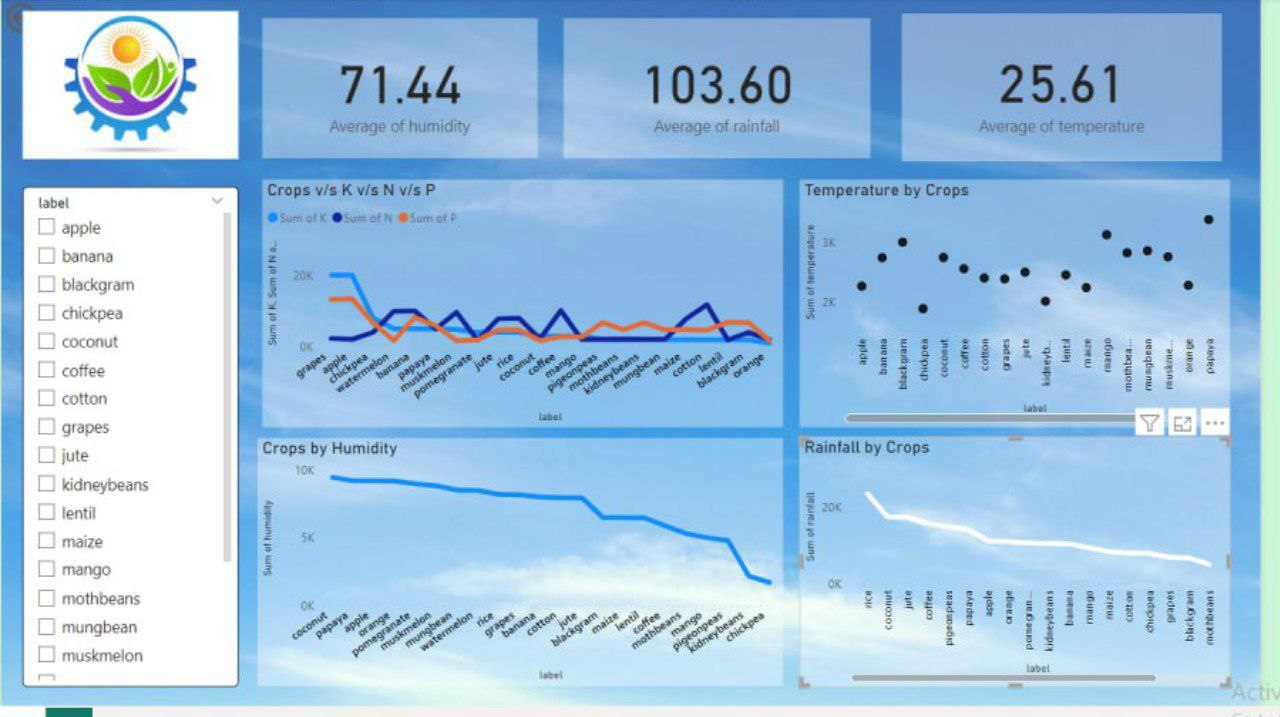

What the dashboard file says about the page in this screenshot:
{"tool":"powerbi","page":{"name":"Page 1","canvas":[1280,720],"ordinal":0},"visuals":[{"type":"actionButton","box":[0,0,100,40],"z":2000},{"type":"slicer","title":"Slicer","fields":{"Values":["Crop_recommendation.label"]},"box":[21.7,191.8,219.5,508.9],"z":3000},{"type":"card","fields":{"Values":["Avg(Crop_recommendation.humidity)"]},"box":[265.3,20.5,279.8,142.3],"z":4000},{"type":"card","fields":{"Values":["Avg(Crop_recommendation.rainfall)"]},"box":[571.7,20.5,312.4,142.3],"z":5000},{"type":"card","fields":{"Values":["Avg(Crop_recommendation.temperature)"]},"box":[915.4,15.7,325.6,150.8],"z":6000},{"type":"lineChart","title":"Rainfall by Crops","fields":{"Category":["Crop_recommendation.label"],"Y":["Sum(Crop_recommendation.rainfall)"]},"box":[811.7,446.2,437.8,254.5],"z":6001},{"type":"scatterChart","title":"Temperature by Crops","fields":{"X":["Crop_recommendation.label"],"Y":["Sum(Crop_recommendation.temperature)"]},"box":[811.7,184.5,437.8,252.1],"z":6002},{"type":"lineChart","title":"Crops by Humidity","fields":{"Category":["Crop_recommendation.label"],"Y":["Sum(Crop_recommendation.humidity)"]},"box":[260.5,447.4,534.3,252.1],"z":6003},{"type":"lineChart","title":"Crops v/s K v/s N v/s P","fields":{"Category":["Crop_recommendation.label"],"Y":["Sum(Crop_recommendation.K)","Sum(Crop_recommendation.N)","Sum(Crop_recommendation.P)"]},"box":[265.3,184.5,529.4,252.1],"z":6004},{"type":"image","box":[22,13,219,150],"z":6005}]}

Visuals, with their boxes in screenshot pixels (x1, y1, x2, y2):
actionButton: bbox=[0, 0, 98, 33]
"Slicer" slicer: bbox=[21, 182, 237, 681]
card - Avg(Crop_recommendation.humidity): bbox=[260, 13, 535, 153]
card - Avg(Crop_recommendation.rainfall): bbox=[561, 13, 868, 153]
card - Avg(Crop_recommendation.temperature): bbox=[899, 9, 1218, 157]
"Rainfall by Crops" lineChart: bbox=[797, 431, 1227, 681]
"Temperature by Crops" scatterChart: bbox=[797, 174, 1227, 422]
"Crops by Humidity" lineChart: bbox=[256, 433, 780, 680]
"Crops v/s K v/s N v/s P" lineChart: bbox=[260, 174, 780, 422]
image: bbox=[22, 6, 237, 153]
